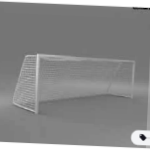goals: (10, 51, 137, 116)
